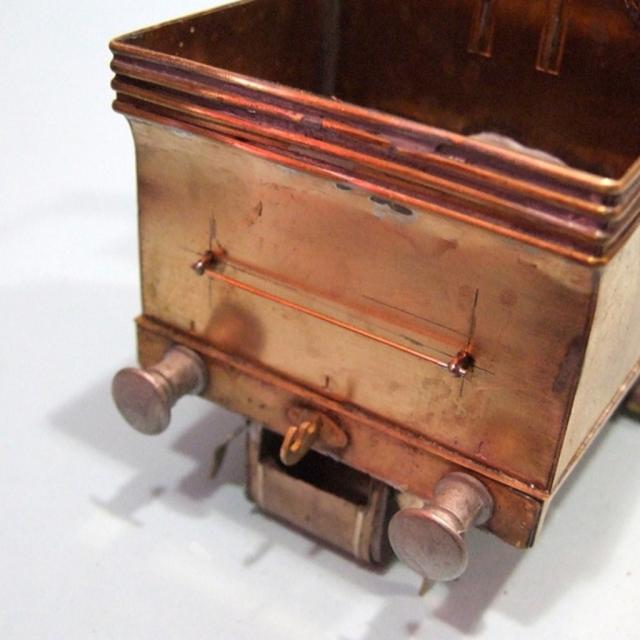Box: (100, 0, 639, 596)
